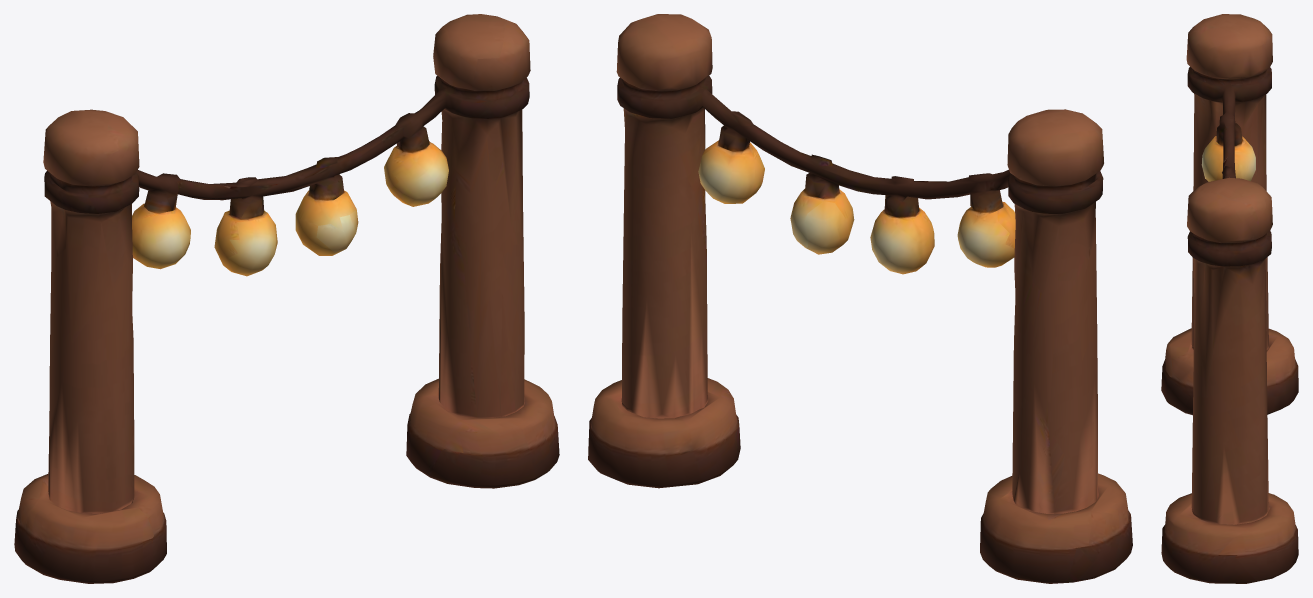
Rendered from fairylights.glb.
3 views of the same model, side by side, from view 1: azimuth 30°, elevation 25°; view 2: azimuth 150°, elevation 25°; view 3: azimuth 270°, elevation 25° (orthographic). The views are drawn at different scales.
Visible parts, largest first — view 1: model; view 2: model; view 3: model.
Part boxes in pixels (box(x1,y1,x2,y2)): model: box(14, 14, 559, 583); model: box(588, 14, 1132, 583); model: box(1161, 14, 1298, 583).
Size of the model in its own units: 1.9 by 1.51 by 0.5033.
Materials: 1 (1 with a texture image).
